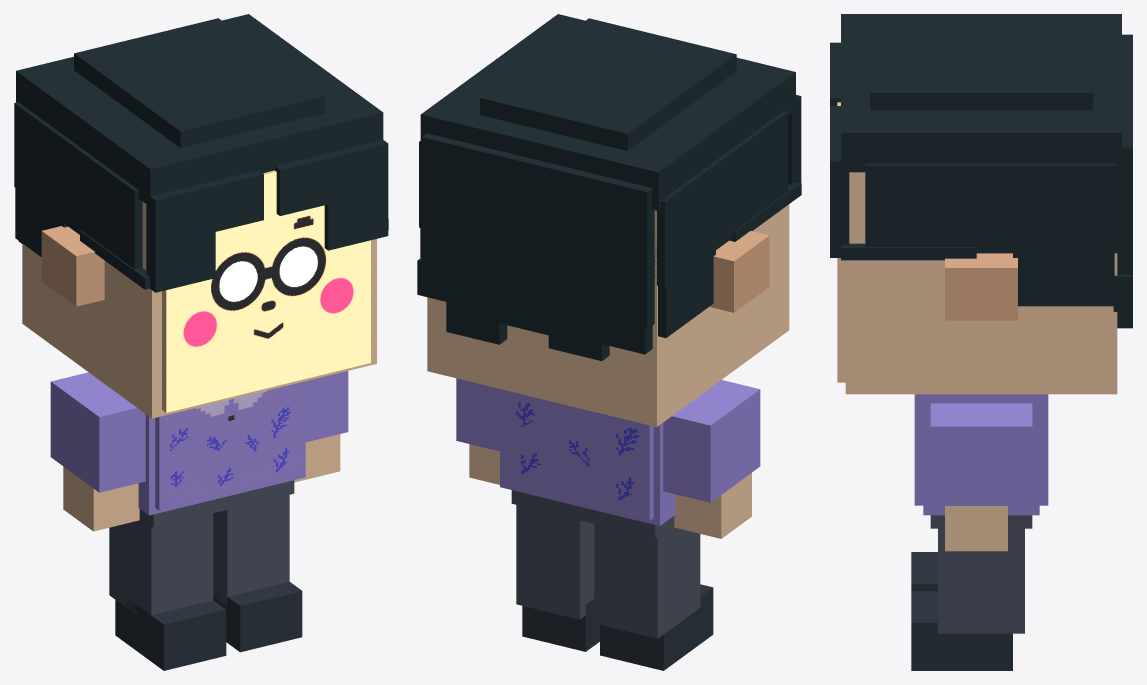
The model's file is yametaro.glb.
3 views of the same model, side by side, from view 1: azimuth 30°, elevation 25°; view 2: azimuth 150°, elevation 25°; view 3: azimuth 270°, elevation 25° (orthographic). The views are drawn at different scales.
Parts seen in each view (by area): view 1: YametaroVoxel_FacePanel, YametaroVoxel_HairCap, YametaroVoxel_HairTop, YametaroVoxel_HeadCube, YametaroVoxel_ShirtFrontPanel, YametaroVoxel_SideHair_-1, YametaroVoxel_SecondarySleeve, YametaroVoxel_PantsLeg_-1, YametaroVoxel_PantsLeg_1, YametaroVoxel_BangLeftTop, YametaroVoxel_Shoe_-1, YametaroVoxel_BangRightTop (+11 smaller); view 2: YametaroVoxel_HairRearMain, YametaroVoxel_HeadCube, YametaroVoxel_HairCap, YametaroVoxel_HairTop, YametaroVoxel_ShirtBackPanel, YametaroVoxel_SideHair_-1, YametaroVoxel_PantsLeg_-1, YametaroVoxel_SecondarySleeve, YametaroVoxel_PantsLeg_1, YametaroVoxel_Shoe_-1, YametaroVoxel_Ear_-1, YametaroVoxel_HairRearNape_3 (+13 smaller); view 3: YametaroVoxel_HeadCube, YametaroVoxel_SideHair_1, YametaroVoxel_HairCap, YametaroVoxel_HairTop, YametaroVoxel_PrimarySleeve, YametaroVoxel_PantsLeg_1, YametaroVoxel_SideHairRear_1, YametaroVoxel_Shoe_1, YametaroVoxel_Ear_1, YametaroVoxel_Torso, YametaroVoxel_HairRearMain, YametaroVoxel_PrimaryHand (+10 smaller).
Boxes of the visible parts, x1,y1,x2,y2 form: YametaroVoxel_FacePanel: [162, 170, 370, 412]; YametaroVoxel_HairCap: [16, 14, 383, 203]; YametaroVoxel_HairTop: [74, 18, 325, 148]; YametaroVoxel_HeadCube: [22, 202, 376, 418]; YametaroVoxel_ShirtFrontPanel: [155, 381, 303, 510]; YametaroVoxel_SideHair_-1: [14, 102, 142, 269]; YametaroVoxel_SecondarySleeve: [50, 372, 145, 492]; YametaroVoxel_PantsLeg_-1: [109, 513, 213, 615]; YametaroVoxel_PantsLeg_1: [213, 494, 289, 606]; YametaroVoxel_BangLeftTop: [146, 170, 263, 246]; YametaroVoxel_Shoe_-1: [115, 596, 226, 670]; YametaroVoxel_BangRightTop: [275, 140, 388, 215]; YametaroVoxel_HairRearMain: [421, 133, 654, 329]; YametaroVoxel_HeadCube: [427, 204, 789, 426]; YametaroVoxel_HairCap: [420, 14, 795, 210]; YametaroVoxel_HairTop: [480, 18, 736, 150]; YametaroVoxel_ShirtBackPanel: [502, 389, 653, 521]; YametaroVoxel_SideHair_-1: [654, 111, 787, 287]; YametaroVoxel_PantsLeg_-1: [594, 524, 700, 638]; YametaroVoxel_SecondarySleeve: [663, 380, 760, 502]; YametaroVoxel_PantsLeg_1: [516, 505, 594, 619]; YametaroVoxel_Shoe_-1: [600, 584, 713, 670]; YametaroVoxel_Ear_-1: [709, 231, 769, 312]; YametaroVoxel_HairRearNape_3: [446, 267, 507, 344]; YametaroVoxel_HeadCube: [845, 172, 1117, 394]; YametaroVoxel_SideHair_1: [865, 163, 1117, 253]; YametaroVoxel_HairCap: [841, 14, 1121, 172]; YametaroVoxel_HairTop: [870, 19, 1092, 110]; YametaroVoxel_PrimarySleeve: [930, 403, 1032, 505]; YametaroVoxel_PantsLeg_1: [938, 528, 1024, 633]; YametaroVoxel_SideHairRear_1: [1013, 244, 1114, 306]; YametaroVoxel_Shoe_1: [911, 591, 1012, 670]; YametaroVoxel_Ear_1: [945, 253, 1017, 320]; YametaroVoxel_Torso: [923, 394, 1039, 515]; YametaroVoxel_HairRearMain: [1117, 34, 1132, 274]; YametaroVoxel_PrimaryHand: [945, 506, 1007, 551].
Bounding box in the file's own units: 1.4 × 2.64 × 1.25.
9 materials, 3 textured.
